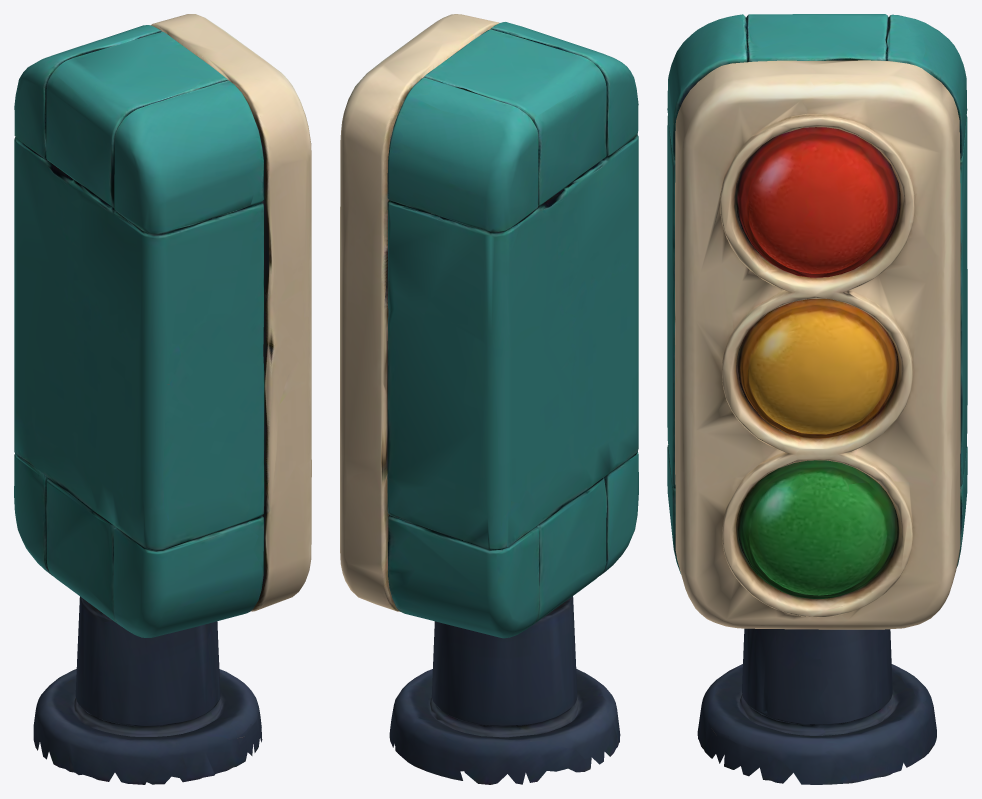
The model's file is trafficlight.glb.
3 renders of one model, left to right at view 1: azimuth 30°, elevation 25°; view 2: azimuth 150°, elevation 25°; view 3: azimuth 270°, elevation 25°, orthographic. The views are drawn at different scales.
Parts seen in each view (by area): view 1: tripo_node_831c8da9-1065-472c-ab70-0fb0f2c22e68; view 2: tripo_node_831c8da9-1065-472c-ab70-0fb0f2c22e68; view 3: tripo_node_831c8da9-1065-472c-ab70-0fb0f2c22e68.
Boxes of the visible parts, left/top/right/bottom form: tripo_node_831c8da9-1065-472c-ab70-0fb0f2c22e68: left=14, top=14, right=311, bottom=784; tripo_node_831c8da9-1065-472c-ab70-0fb0f2c22e68: left=340, top=14, right=638, bottom=784; tripo_node_831c8da9-1065-472c-ab70-0fb0f2c22e68: left=667, top=14, right=967, bottom=784.
Size of the model in its own units: 0.3266 by 0.8915 by 0.3447.
Materials: 1 (1 with a texture image).
